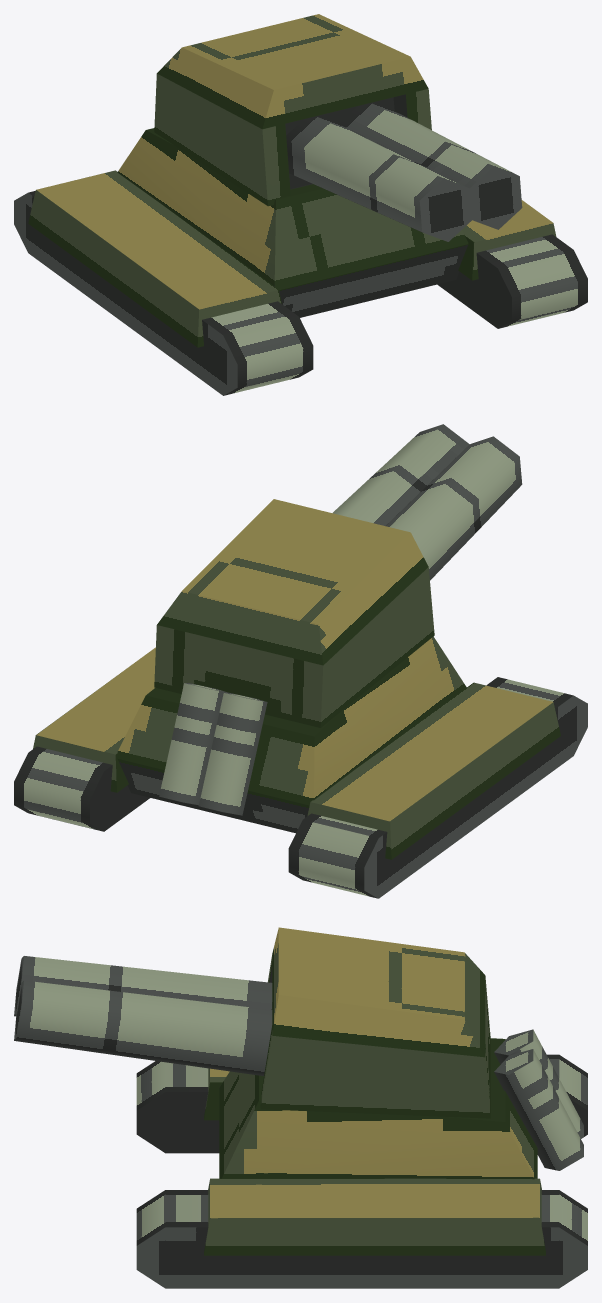
3 views of the same model, one above another, from view 1: azimuth 30°, elevation 25°; view 2: azimuth 150°, elevation 25°; view 3: azimuth 270°, elevation 25° (orthographic).
Parts seen in each view (by area): view 1: CannonMech; view 2: CannonMech; view 3: CannonMech.
Part boxes in pixels (left/top/right/bottom): CannonMech: left=14, top=14, right=587, bottom=395; CannonMech: left=14, top=424, right=587, bottom=898; CannonMech: left=14, top=927, right=587, bottom=1288.
Bounding box in the file's own units: 36.12 × 22.68 × 48.93.
1 material, 1 textured.
